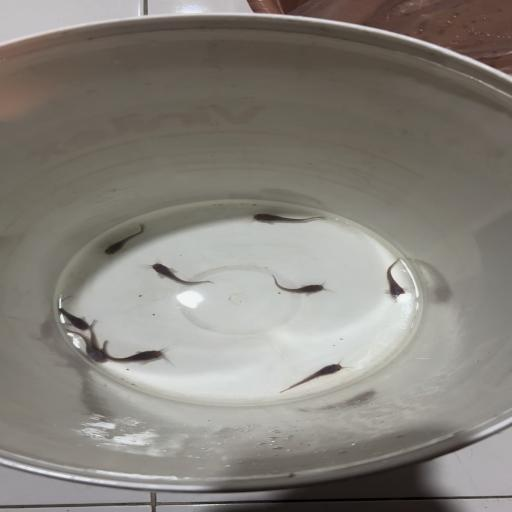lele: (277, 357, 353, 394), (140, 260, 216, 287), (100, 340, 177, 366), (98, 223, 150, 258), (379, 258, 414, 304), (269, 273, 334, 297), (245, 208, 328, 226), (66, 328, 102, 362), (57, 294, 90, 330), (86, 319, 106, 362)
